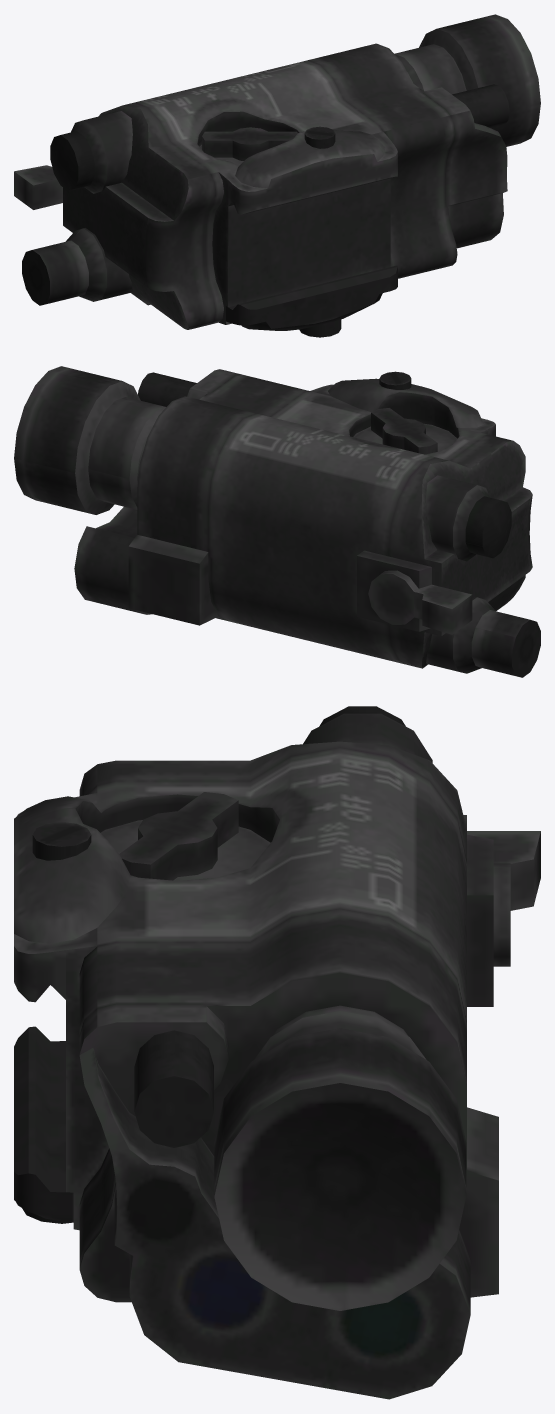
Rendered from t6_attach_wlp_view_LOD0.obj.
3 renders of one model, top to bottom at view 1: azimuth 30°, elevation 25°; view 2: azimuth 150°, elevation 25°; view 3: azimuth 270°, elevation 25°, orthographic. The views are drawn at different scales.
Visible parts, largest first — view 1: mtl_t6_attach_wlp; view 2: mtl_t6_attach_wlp; view 3: mtl_t6_attach_wlp.
Part boxes in pixels (x1=…): mtl_t6_attach_wlp: x1=14, y1=14, x2=540, y2=337; mtl_t6_attach_wlp: x1=14, y1=366, x2=540, y2=677; mtl_t6_attach_wlp: x1=14, y1=706, x2=540, y2=1399.
Bounding box in the file's own units: 11.71 × 4.86 × 6.02.
